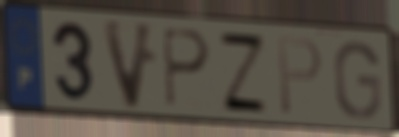3: (47, 18, 99, 105)
G: (331, 39, 384, 123)
P: (159, 24, 213, 111), (275, 34, 325, 118)
V: (98, 15, 159, 113)
Z: (215, 29, 272, 117)
